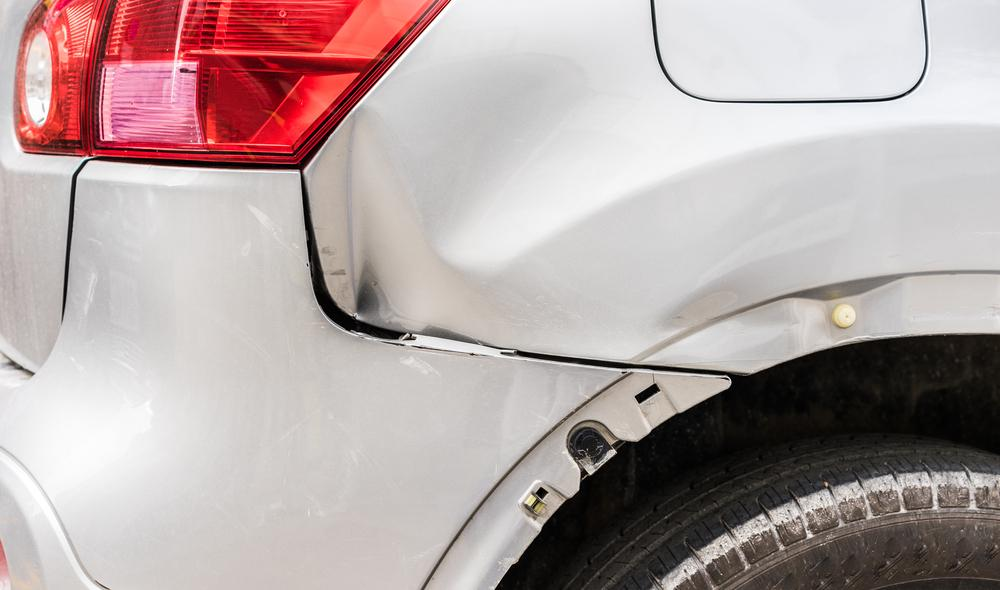dent: (340, 66, 595, 333), (661, 280, 797, 352)
